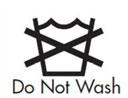do_not_wash: (18, 15, 110, 78)
